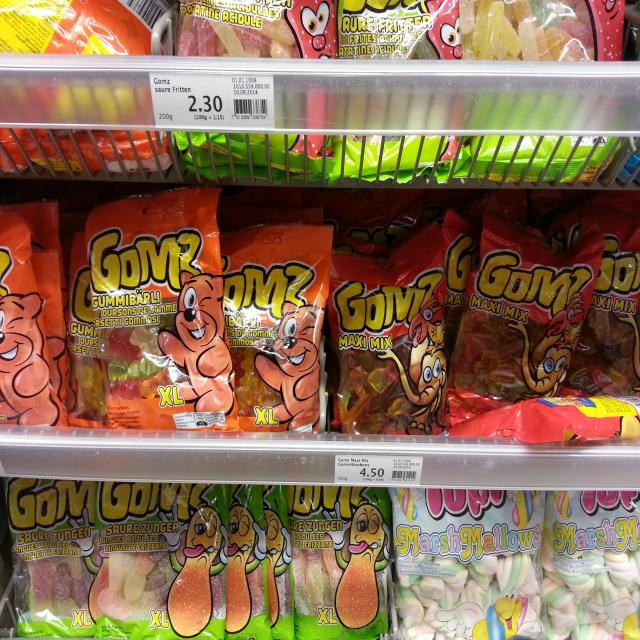Bombons: (66, 186, 239, 434), (452, 218, 606, 402), (327, 220, 448, 438), (176, 0, 336, 162), (460, 0, 624, 153), (216, 225, 333, 433), (389, 487, 544, 640), (94, 484, 225, 640), (338, 0, 461, 160), (288, 488, 387, 640), (5, 479, 94, 640), (544, 493, 640, 640)
